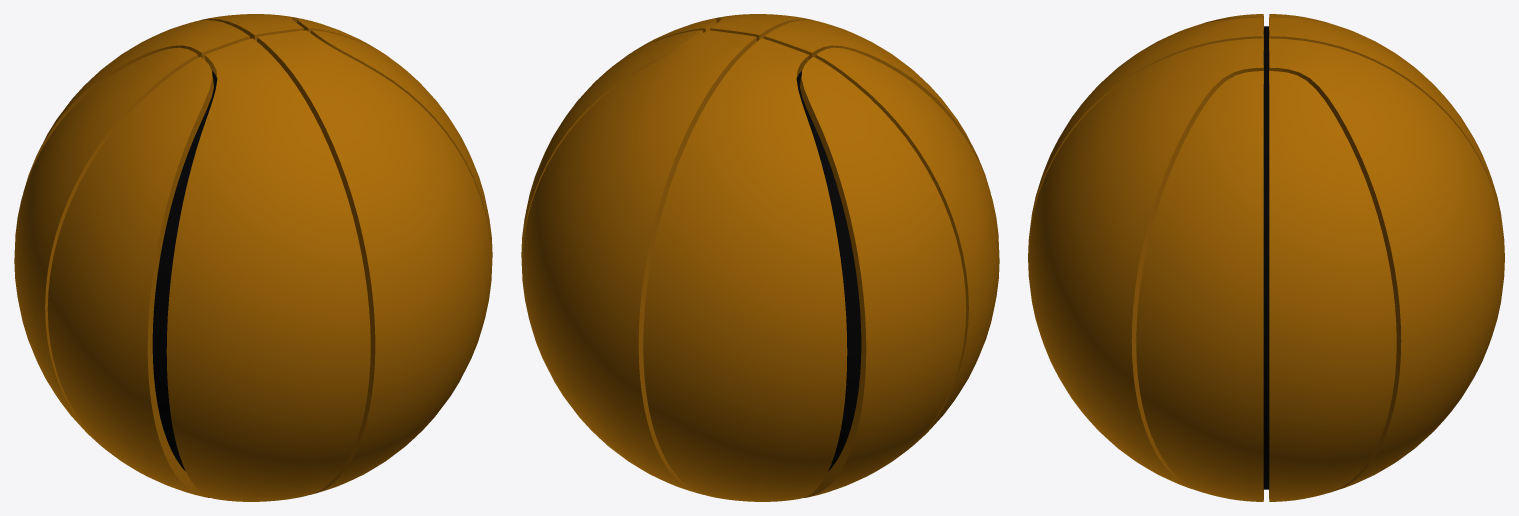
The model's file is basketballModel (1).fbx.
3 renders of one model, left to right at view 1: azimuth 30°, elevation 25°; view 2: azimuth 150°, elevation 25°; view 3: azimuth 270°, elevation 25°, orthographic.
Parts seen in each view (by area): view 1: pSphere1; view 2: pSphere1; view 3: pSphere1.
Part boxes in pixels (x1,y1,x2,y2): pSphere1: (14,14,492,501); pSphere1: (521,14,999,501); pSphere1: (1028,14,1504,501).
Bounding box in the file's own units: 1.92 × 1.96 × 1.92.
